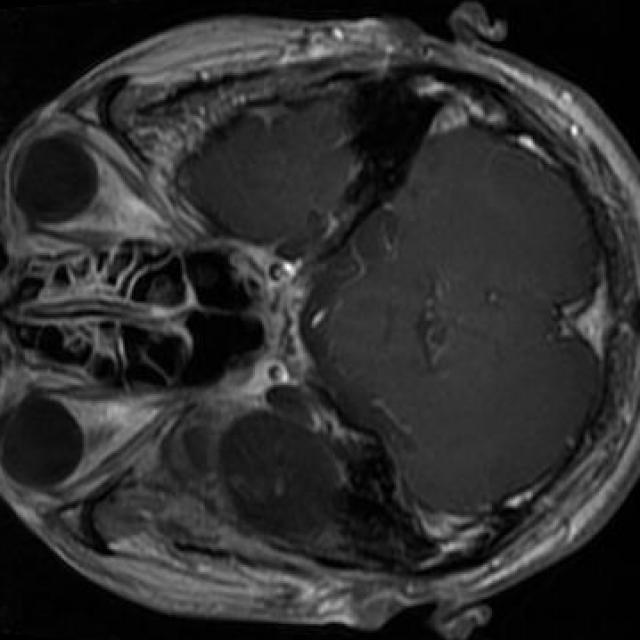glioma: (217, 414, 344, 542)
